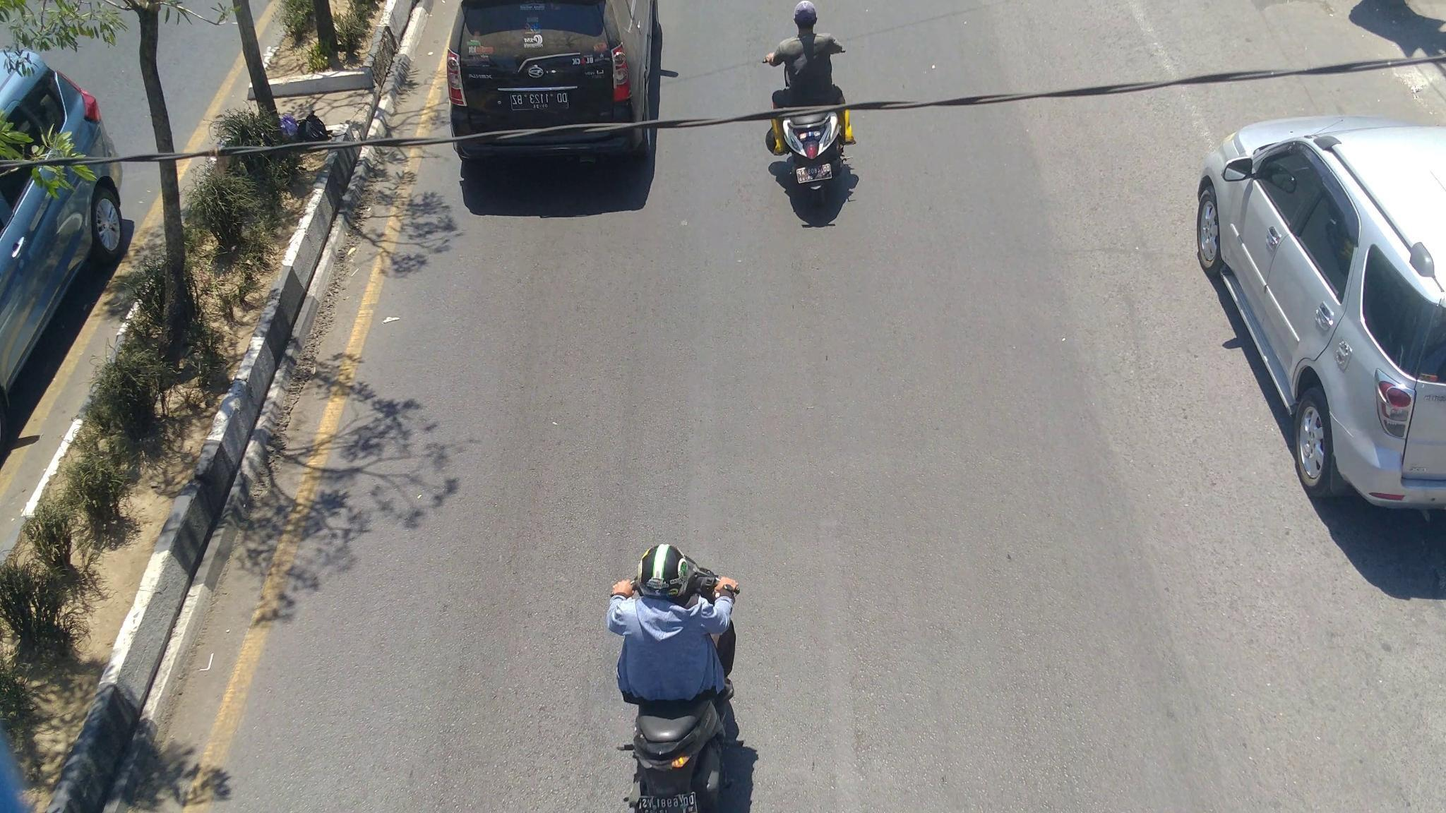Helmet: (631, 534, 693, 610)
bike: (608, 548, 741, 813), (761, 31, 854, 207)
no-helmet: (786, 0, 823, 39)
rider: (605, 542, 737, 701), (763, 0, 856, 151)
